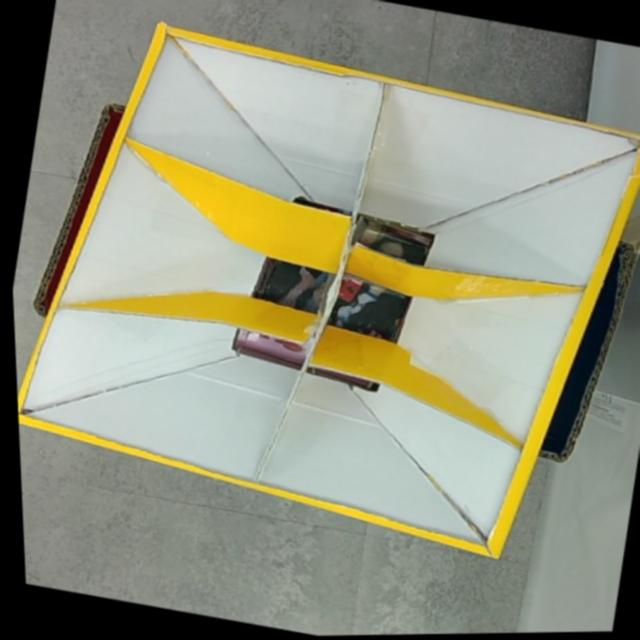box: (0, 0, 640, 587)
